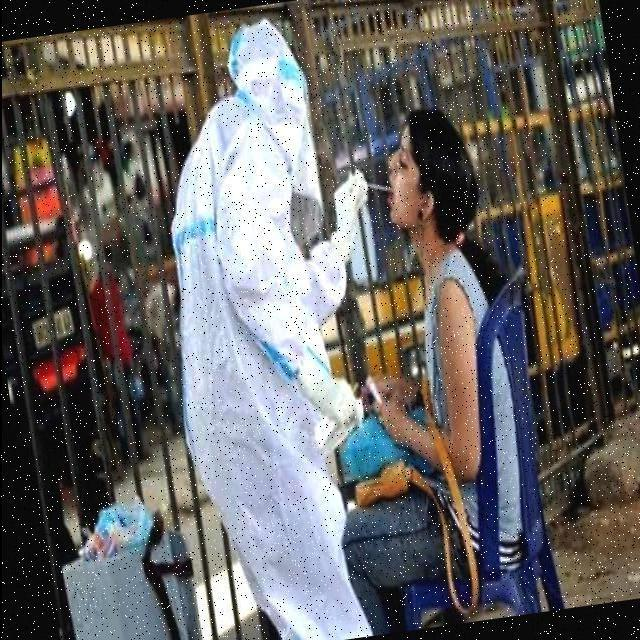no_gloves: (403, 100, 469, 173)
no_hairnet: (386, 176, 434, 224)
